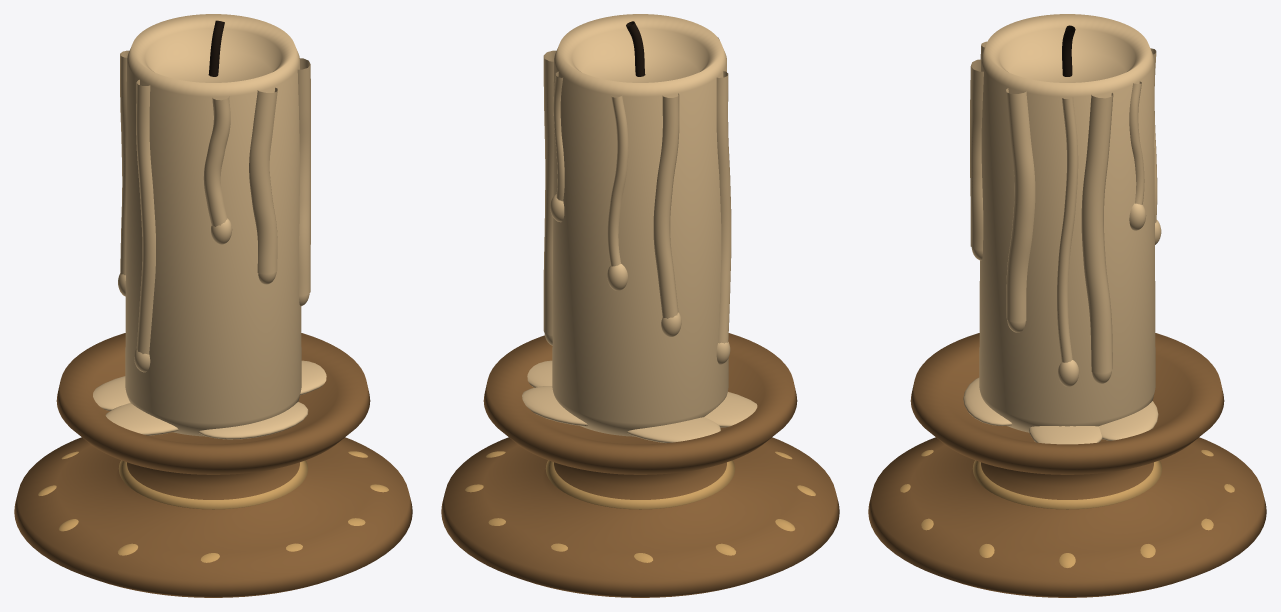
Rendered from candle-v1.glb.
The picture shows the model from 3 angles, left to right: view 1: azimuth 30°, elevation 25°; view 2: azimuth 150°, elevation 25°; view 3: azimuth 270°, elevation 25°; orthographic projection.
Parts seen in each view (by area): view 1: CastHolder, WaxBody, WaxTrail.002, WaxTrail.004, WaxTrail.005, WaxTrail.007, TurnedHighlight.002, PooledWax.002, WaxTrail.001, PooledWax.004, PooledWax.001, PooledWax (+1 smaller); view 2: CastHolder, WaxBody, WaxTrail.001, WaxTrail.004, WaxTrail.008, TurnedHighlight.002, WaxTrail.006, PooledWax.001, PooledWax.003, PooledWax.004, WaxTrail.003, PooledWax (+1 smaller); view 3: CastHolder, WaxBody, WaxTrail.008, WaxTrail.005, WaxTrail, WaxTrail.002, TurnedHighlight.002, PooledWax, PooledWax.003, WaxTrail.003, PooledWax.002, Wick.
Part boxes in pixels (x1,y1,x2,y2): CastHolder: [14, 333, 412, 597]; WaxBody: [125, 14, 301, 436]; WaxTrail.002: [249, 87, 277, 274]; WaxTrail.004: [136, 79, 155, 354]; WaxTrail.005: [297, 58, 310, 296]; WaxTrail.007: [203, 96, 230, 226]; TurnedHighlight.002: [118, 460, 308, 509]; PooledWax.002: [198, 402, 308, 439]; WaxTrail.001: [120, 50, 129, 275]; PooledWax.004: [105, 403, 178, 435]; PooledWax.001: [93, 376, 130, 410]; PooledWax: [300, 360, 326, 395]; CastHolder: [441, 333, 839, 597]; WaxBody: [552, 14, 728, 436]; WaxTrail.001: [653, 93, 679, 318]; WaxTrail.004: [716, 71, 731, 343]; WaxTrail.008: [543, 50, 556, 335]; TurnedHighlight.002: [545, 460, 735, 509]; WaxTrail.006: [607, 95, 628, 266]; PooledWax.001: [627, 417, 720, 442]; PooledWax.003: [522, 386, 587, 426]; PooledWax.004: [704, 392, 757, 427]; WaxTrail.003: [553, 71, 564, 201]; PooledWax: [527, 360, 552, 387]; CastHolder: [868, 333, 1266, 597]; WaxBody: [979, 14, 1155, 432]; WaxTrail.008: [1081, 93, 1113, 373]; WaxTrail.005: [1006, 88, 1035, 322]; WaxTrail: [1057, 97, 1078, 362]; WaxTrail.002: [970, 59, 983, 250]; TurnedHighlight.002: [972, 460, 1162, 509]; PooledWax: [1029, 426, 1102, 444]; PooledWax.003: [1098, 401, 1158, 440]; WaxTrail.003: [1129, 81, 1144, 204]; PooledWax.002: [963, 377, 1012, 425]; Wick: [1062, 25, 1075, 76].
Size of the model in its own units: 1.22 by 1.68 by 1.22.
